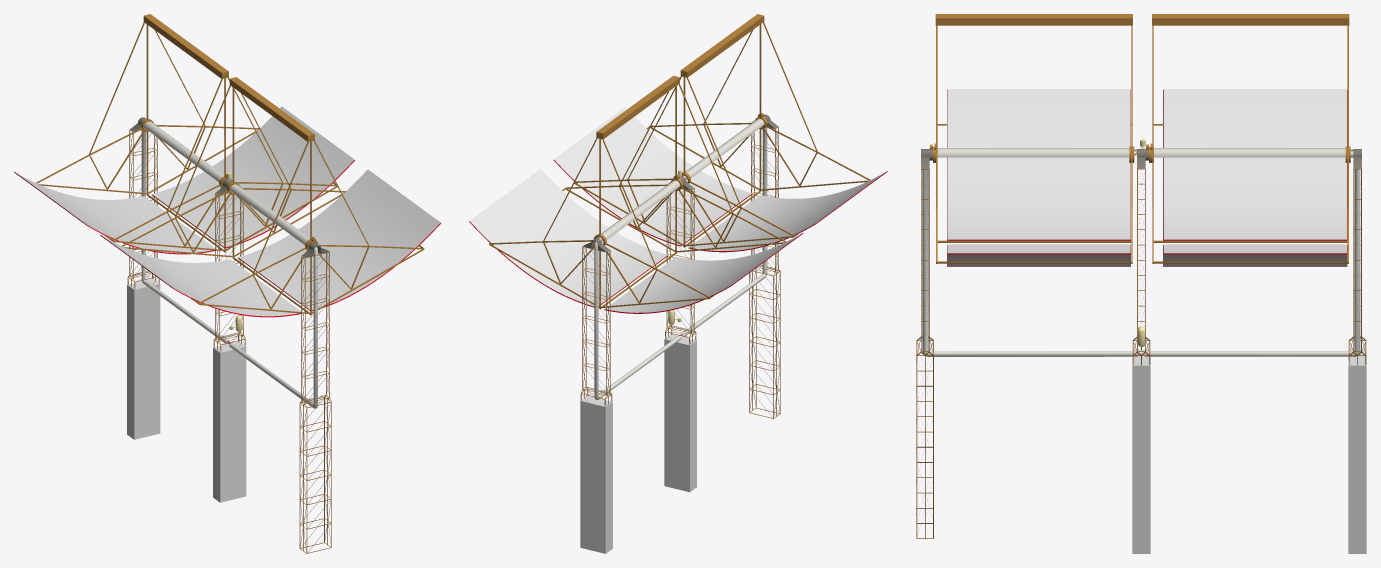
File: Solar_Thermal_Mirror_Set_Center_Circuit.glb
3 renders of one model, left to right at view 1: azimuth 30°, elevation 25°; view 2: azimuth 150°, elevation 25°; view 3: azimuth 270°, elevation 25°, orthographic. The views are drawn at different scales.
Visible parts, largest first — view 1: ConcentratorMirrors_LOD0, MirrorTowerFrame_LOD0, STEMP-colonly.001, STEMP-colonly.002; view 2: ConcentratorMirrors_LOD0, MirrorTowerFrame_LOD0, STEMP-colonly.002, STEMP-colonly.001; view 3: ConcentratorMirrors_LOD0, MirrorTowerFrame_LOD0, STEMP-colonly.002, STEMP-colonly.001.
Part boxes in pixels (left/top/right/bottom): ConcentratorMirrors_LOD0: left=14, top=14, right=440, bottom=317; MirrorTowerFrame_LOD0: left=127, top=117, right=331, bottom=553; STEMP-colonly.001: left=213, top=341, right=246, bottom=502; STEMP-colonly.002: left=127, top=278, right=160, bottom=439; ConcentratorMirrors_LOD0: left=469, top=14, right=887, bottom=313; MirrorTowerFrame_LOD0: left=580, top=114, right=780, bottom=418; STEMP-colonly.002: left=580, top=395, right=612, bottom=553; STEMP-colonly.001: left=664, top=334, right=696, bottom=492; ConcentratorMirrors_LOD0: left=929, top=14, right=1350, bottom=266; MirrorTowerFrame_LOD0: left=916, top=139, right=1366, bottom=538; STEMP-colonly.002: left=1348, top=349, right=1366, bottom=553; STEMP-colonly.001: left=1132, top=349, right=1150, bottom=553.
Size of what is drawn, in the model's own units: 40.17 by 60.46 by 46.55.
